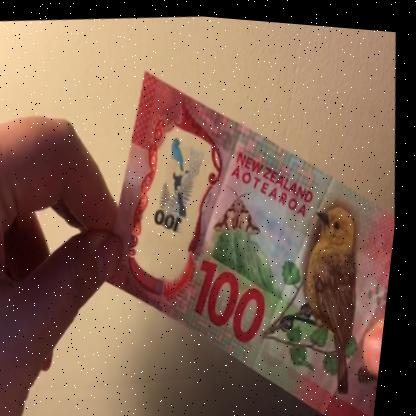100B: (141, 121, 224, 263)
